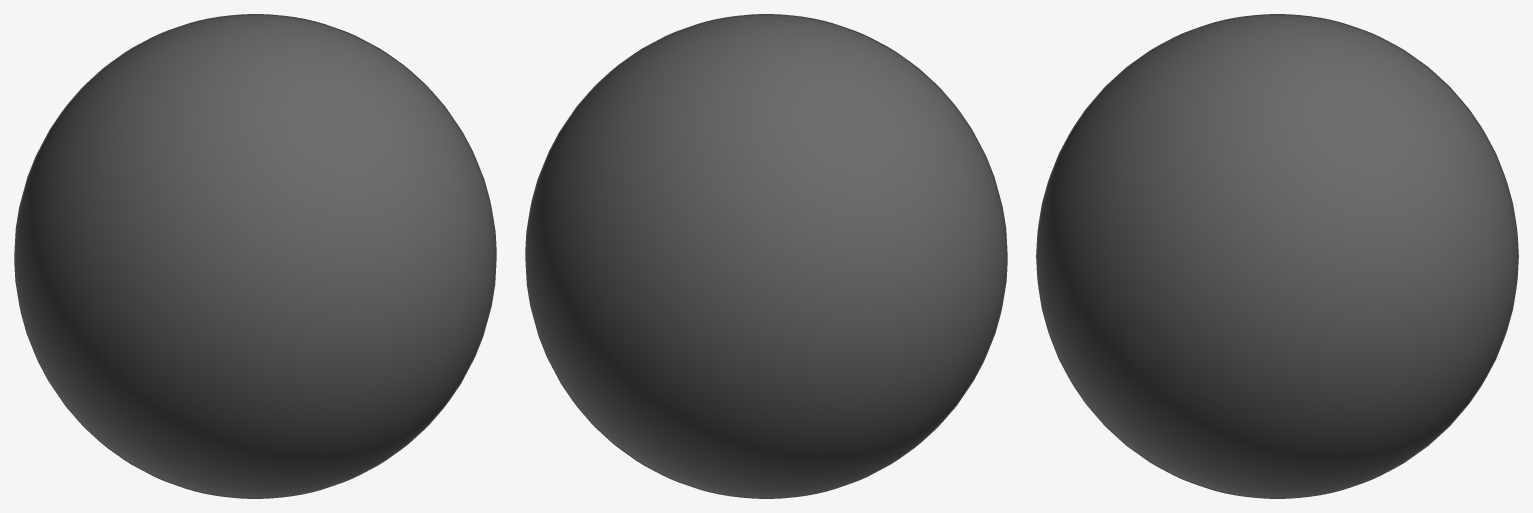
File: mars.gltf
The picture shows the model from 3 angles, left to right: view 1: azimuth 30°, elevation 25°; view 2: azimuth 150°, elevation 25°; view 3: azimuth 270°, elevation 25°; orthographic projection.
Parts seen in each view (by area): view 1: Sphere.001, Sphere; view 2: Sphere.001, Sphere; view 3: Sphere.001, Sphere.
Boxes of the visible parts, x1=… form: Sphere.001: x1=14, y1=14, x2=496, y2=498; Sphere: x1=15, y1=15, x2=495, y2=497; Sphere.001: x1=525, y1=14, x2=1007, y2=498; Sphere: x1=526, y1=15, x2=1006, y2=497; Sphere.001: x1=1036, y1=14, x2=1518, y2=498; Sphere: x1=1037, y1=15, x2=1517, y2=497.
Size of the model in its own units: 1.98 by 2.01 by 1.98.
